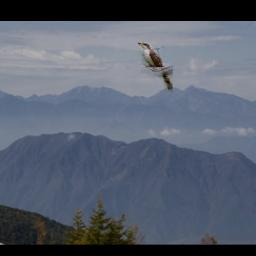Cuckoo: (137, 43, 173, 93)
